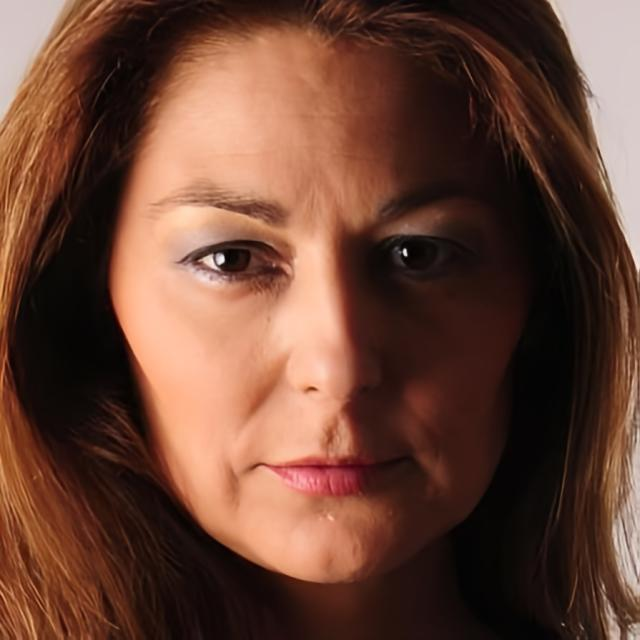anger: (108, 33, 531, 596)
